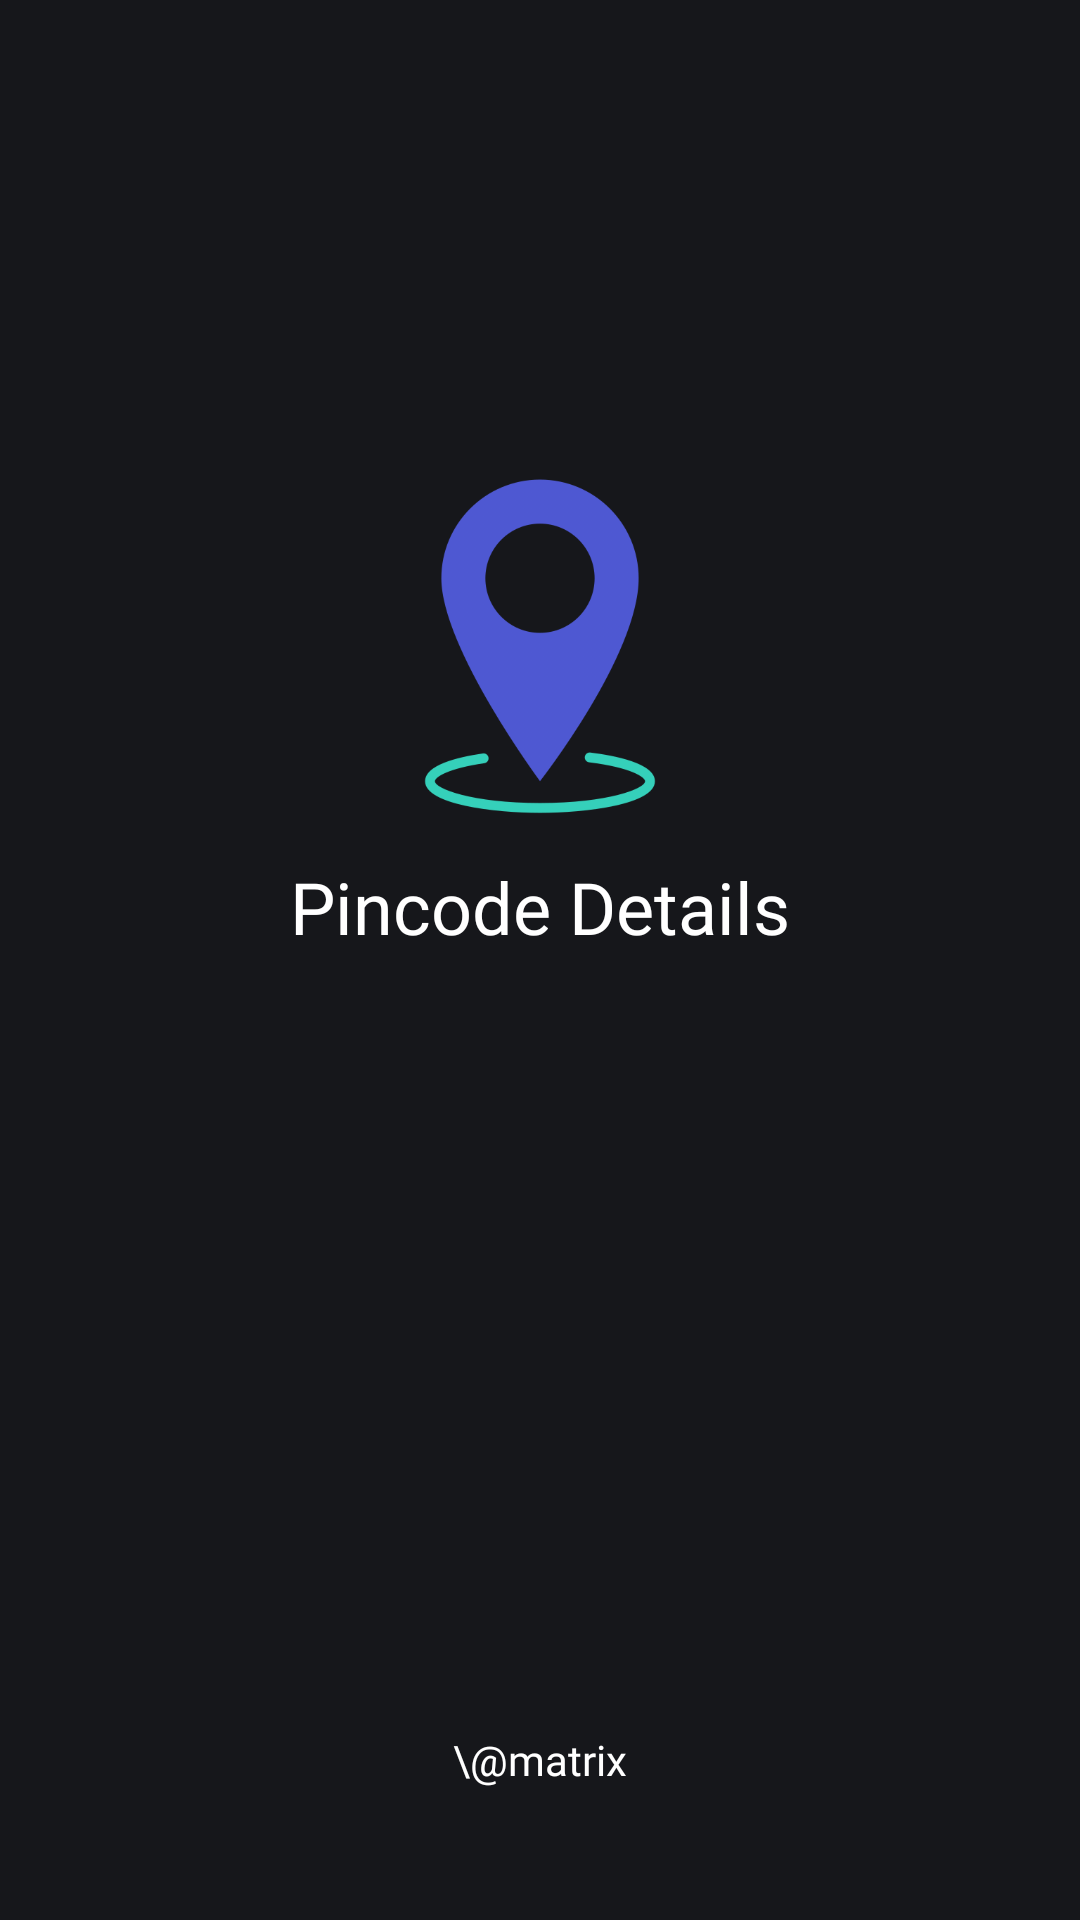

Icon click points for this 1080 x 1920 phone screenshot, format point (x, y):
location: point (540, 646)
